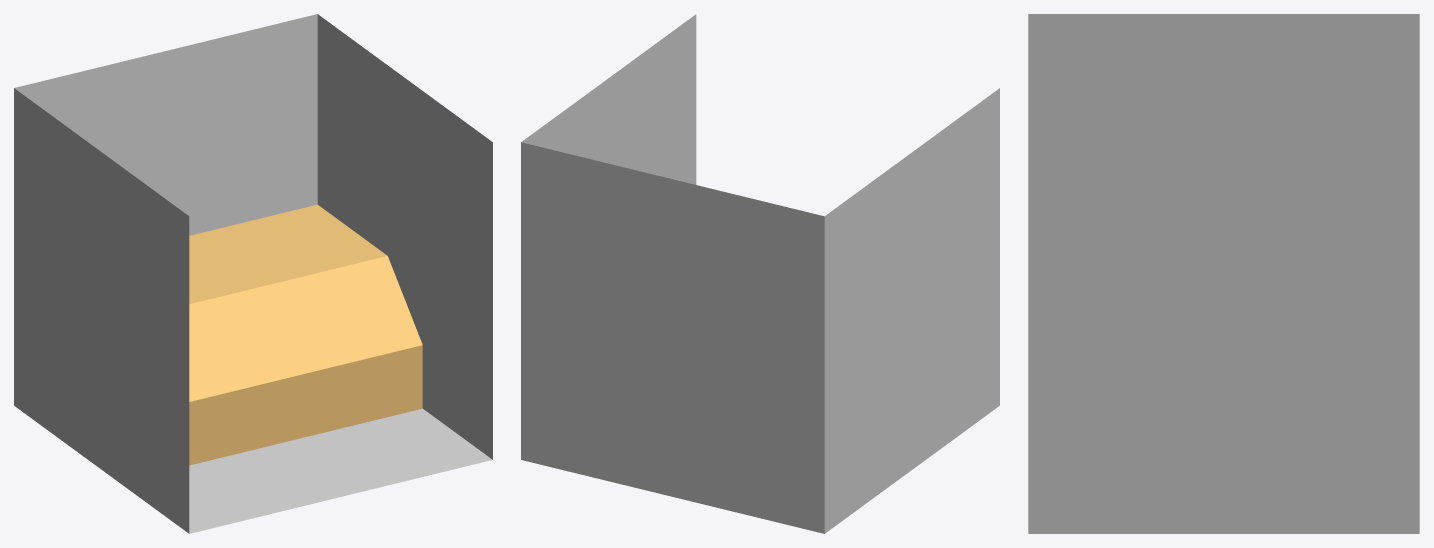
3 views of the same model, side by side, from view 1: azimuth 30°, elevation 25°; view 2: azimuth 150°, elevation 25°; view 3: azimuth 270°, elevation 25° (orthographic). The views are drawn at different scales.
Size of the model in its own units: 1 by 1 by 1.
